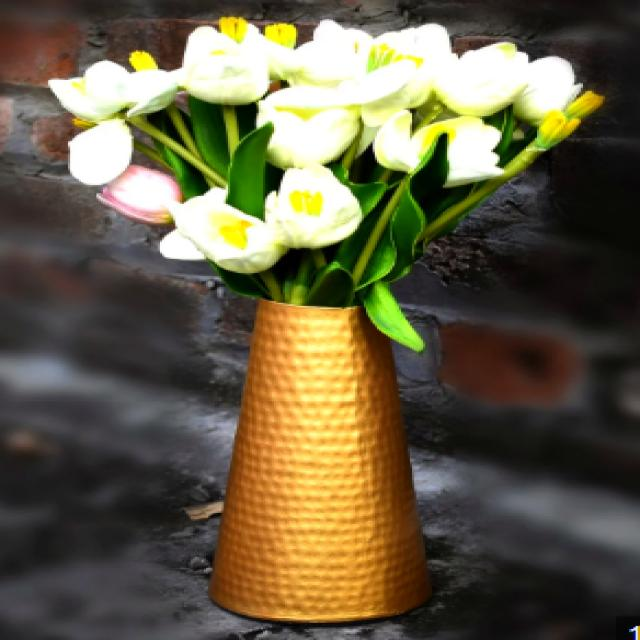Plant Pot: (179, 271, 489, 637)
